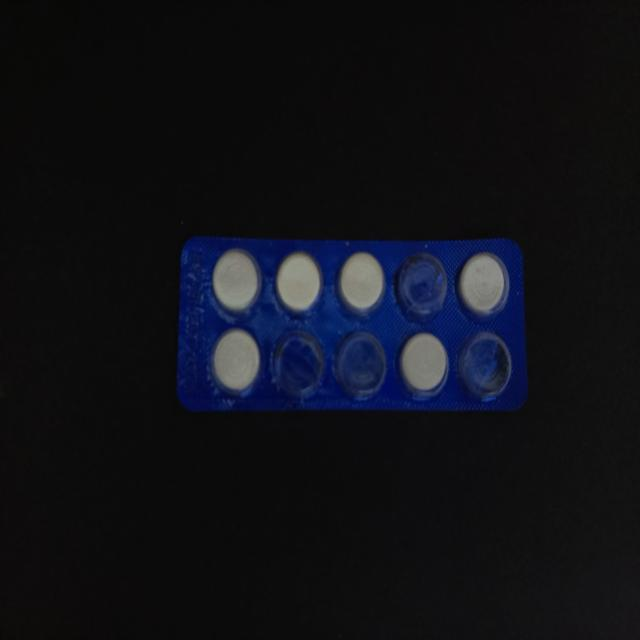defect: (268, 327, 328, 403), (455, 329, 514, 405), (391, 250, 450, 325), (332, 327, 389, 403)
